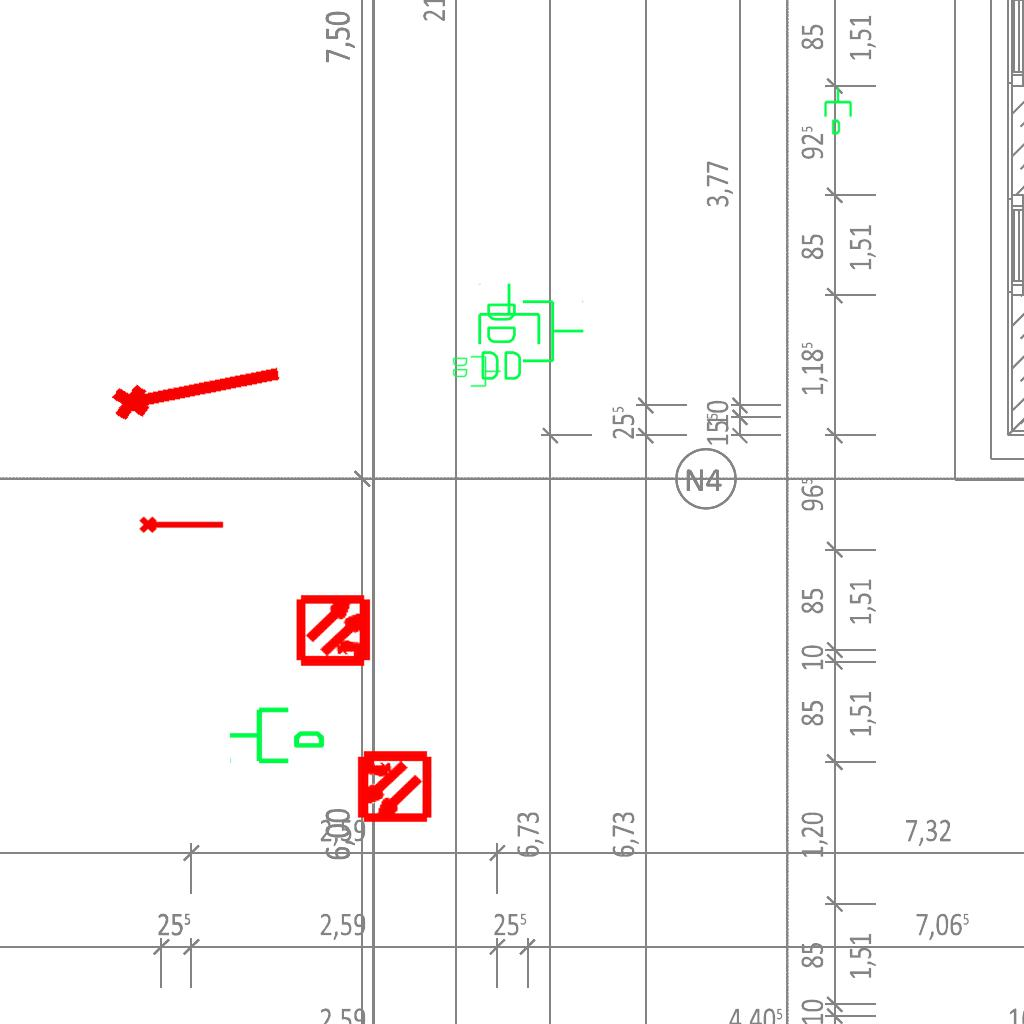ASR_Ansaugoeffnung: (106, 347, 288, 427), (138, 512, 226, 535)
Datenanschluss_einfach: (227, 699, 327, 768), (822, 86, 856, 136)
Datenanschluss_zweifach: (474, 281, 543, 384), (483, 296, 586, 365), (451, 354, 502, 388)
OT_Multisensormelder_(Kombination_RMO_WMD): (279, 574, 392, 687), (336, 730, 449, 843)
